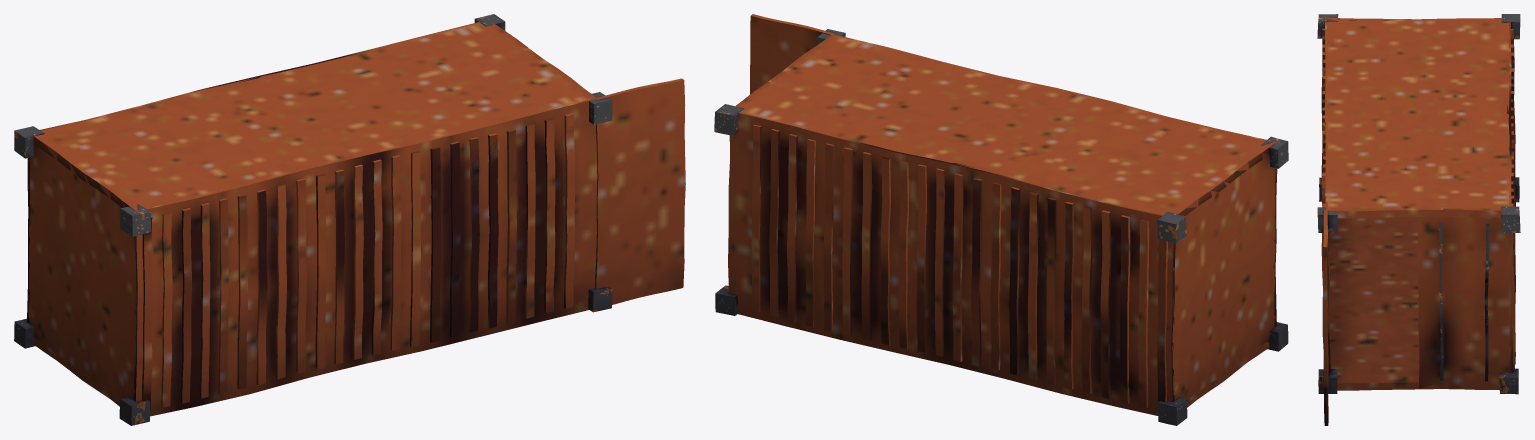
The model's file is ShippingContainer.glb.
3 renders of one model, left to right at view 1: azimuth 30°, elevation 25°; view 2: azimuth 150°, elevation 25°; view 3: azimuth 270°, elevation 25°, orthographic. The views are drawn at different scales.
Parts seen in each view (by area): view 1: Shell, Corners; view 2: Shell, Corners; view 3: Shell, Corners.
Boxes of the visible parts, left/top/right/bottom form: Shell: left=27, top=19, right=685, bottom=416; Corners: left=14, top=14, right=612, bottom=425; Shell: left=728, top=14, right=1277, bottom=415; Corners: left=714, top=29, right=1288, bottom=425; Shell: left=1321, top=17, right=1515, bottom=425; Corners: left=1317, top=14, right=1520, bottom=394.
Bounding box in the file's own units: 14.52 × 5.27 × 5.34.
2 materials, 2 textured.
